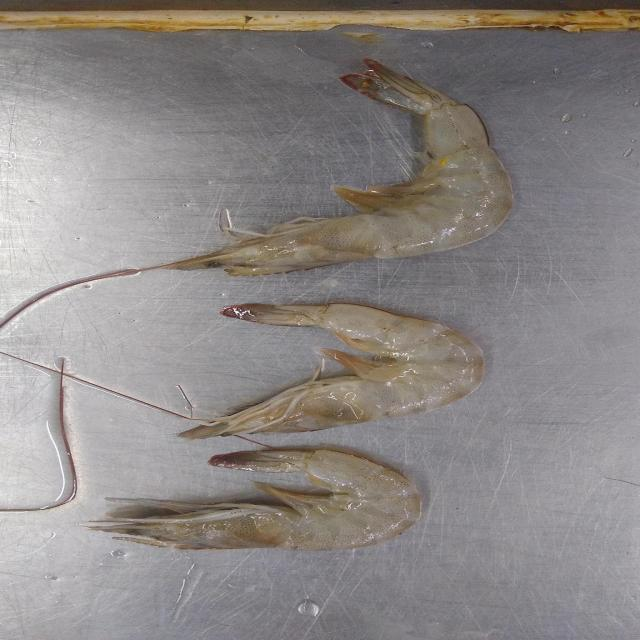shrimp: (160, 59, 513, 276), (178, 304, 484, 441), (89, 450, 420, 551)
